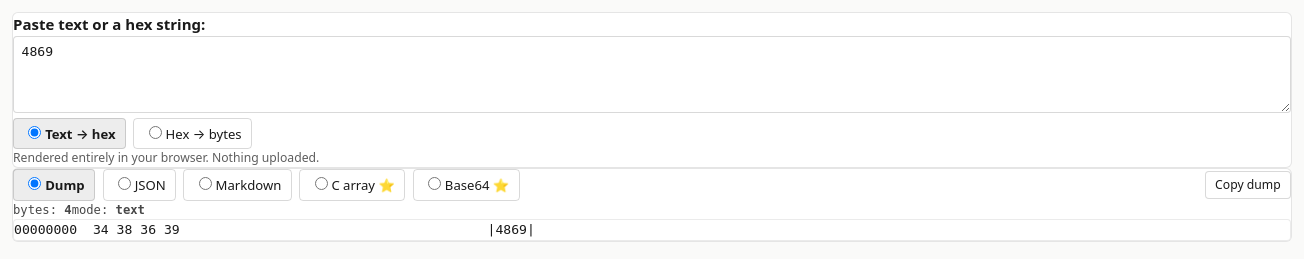
HexApp › switches modes via the toggle
Expected: the text with test id "hex-stat-bytes" reads "4", left=64, top=203, right=72, bottom=217
Step 1. Click the radio button with test id "hex-mode-hex" → (155, 132), box left=149, top=126, right=162, bottom=139
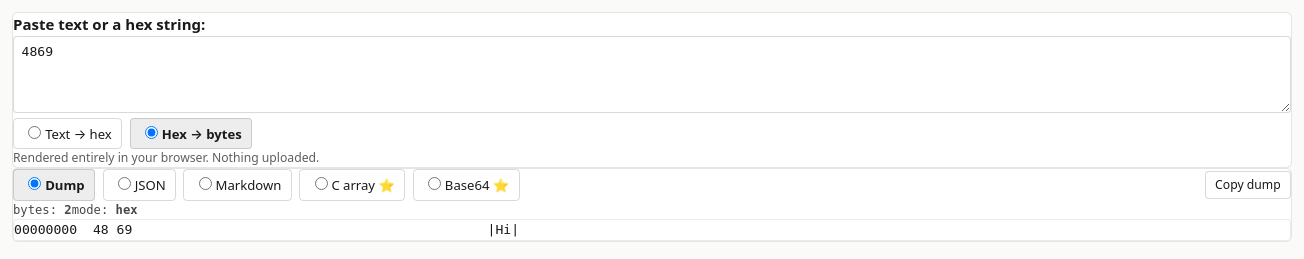
Expected: the text with test id "hex-stat-bytes" reads "2", left=64, top=203, right=72, bottom=217
